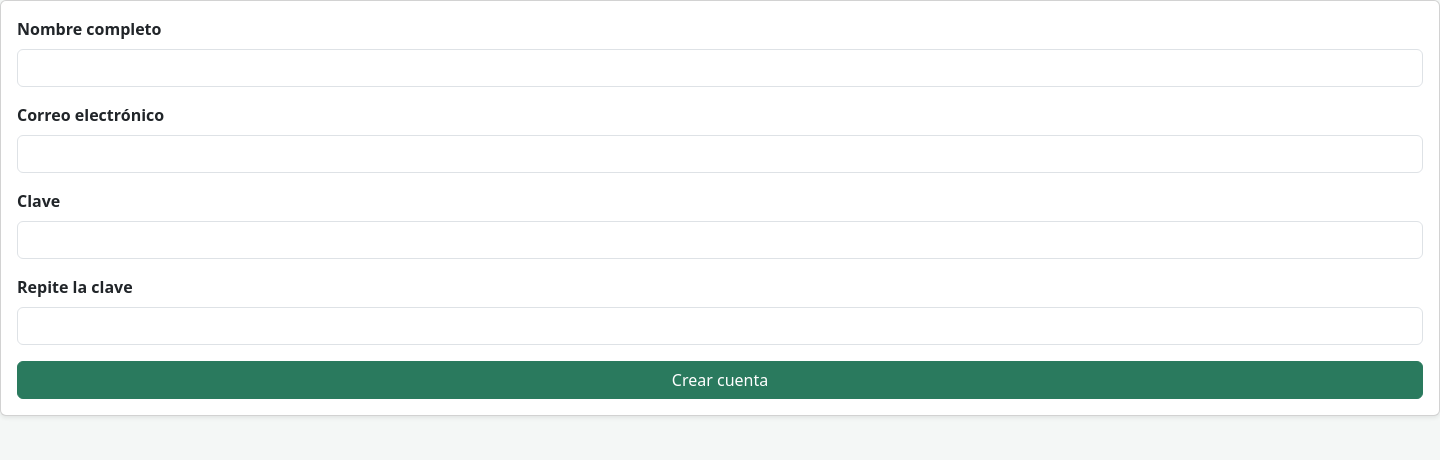
Test case: FormularioRegistro › rechaza el envío si las claves no coinciden
Type "Ana Soto" into the field labelled "Nombre completo".
click(720, 68); type("Ana Soto")  # box x1=17 y1=49 x2=1423 y2=87
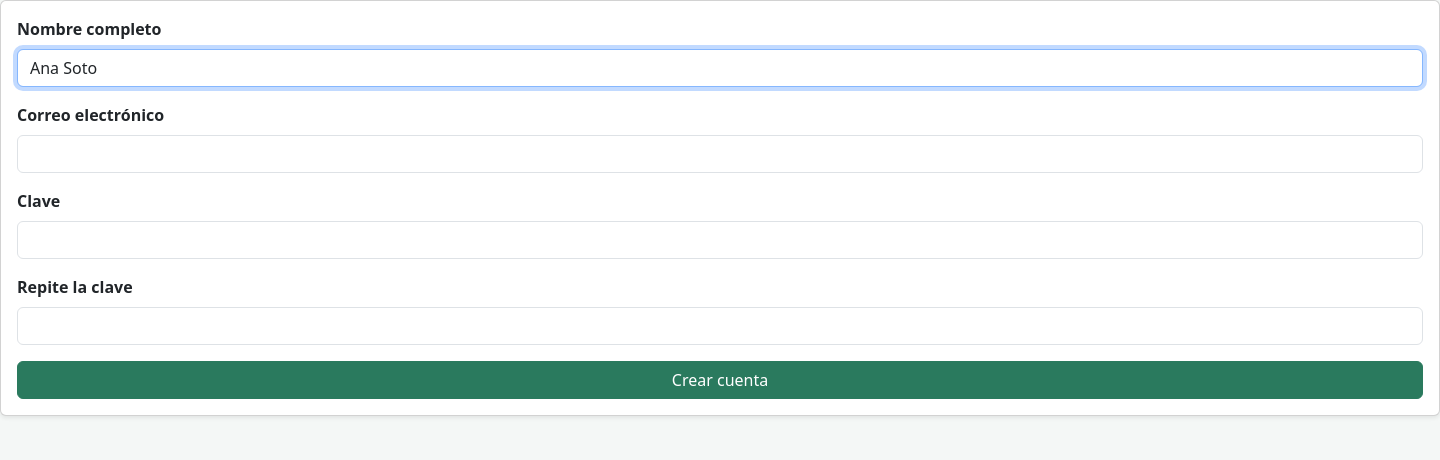
Type "ana@correo.cl" into the field labelled "Correo electrónico".
click(720, 154); type("ana@correo.cl")  # box x1=17 y1=135 x2=1423 y2=173
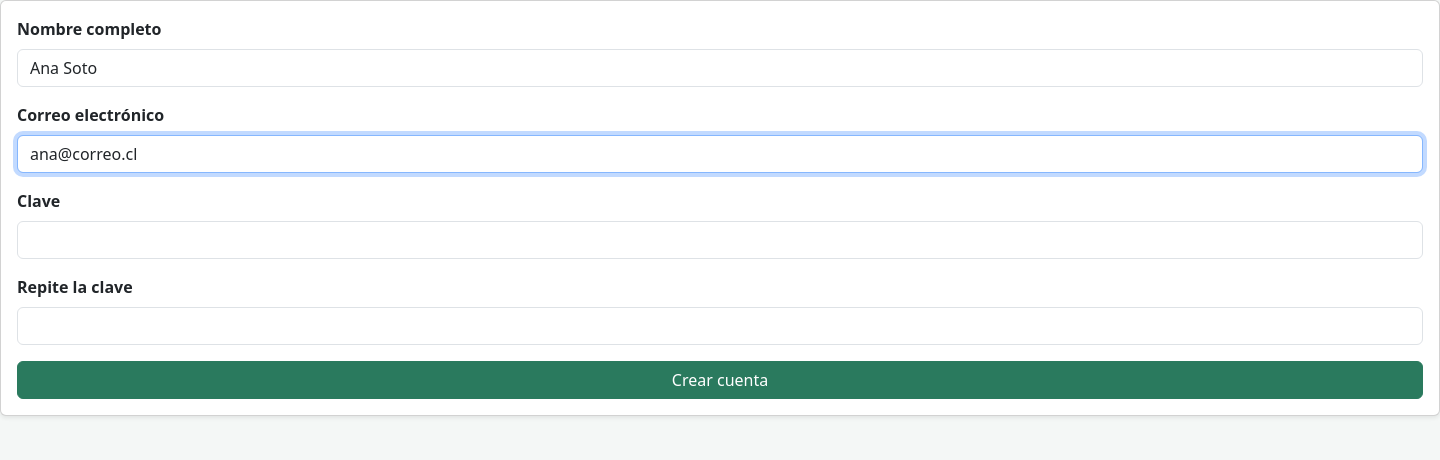
Type "secreta1" into the password field labelled "Clave".
click(720, 240); type("secreta1")  # box x1=17 y1=221 x2=1423 y2=259
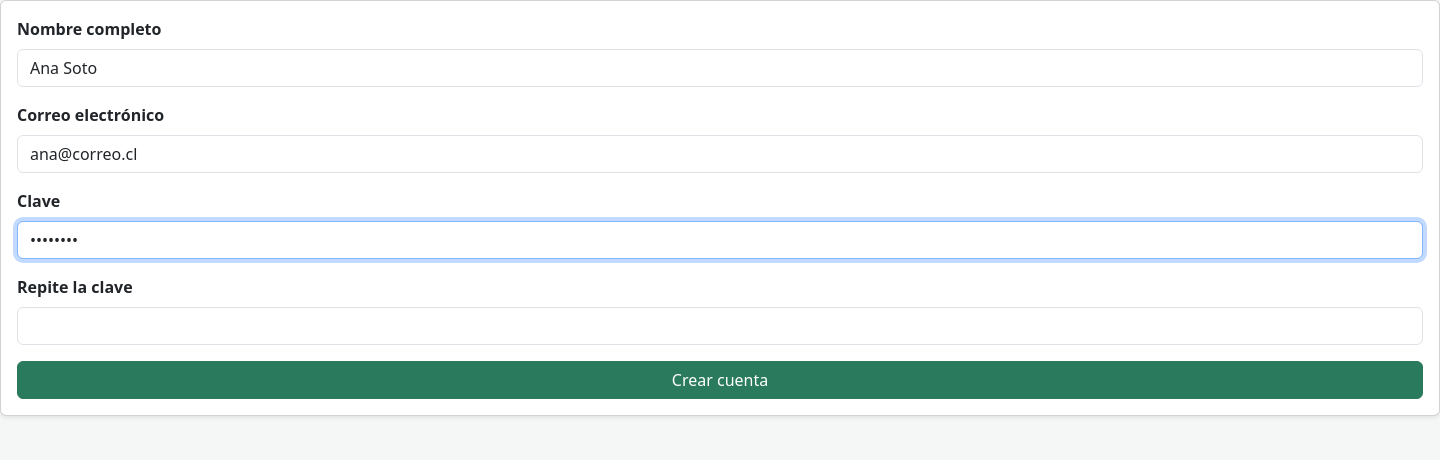
Type "secreta2" into the password field labelled "Repite la clave".
click(720, 326); type("secreta2")  # box x1=17 y1=307 x2=1423 y2=345
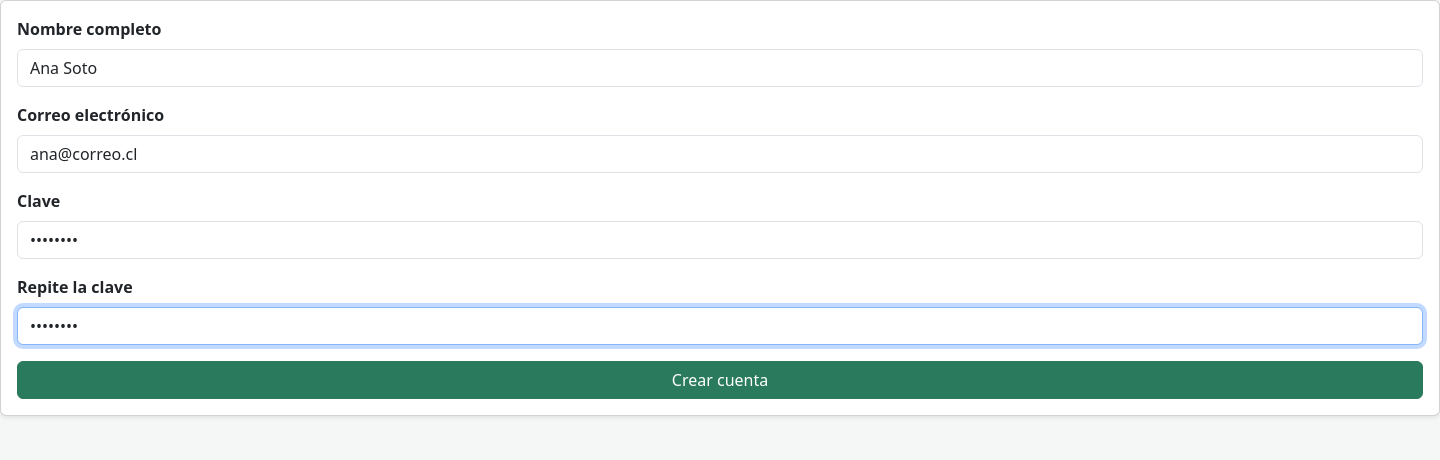
Click the button "Crear cuenta".
click(720, 380)  # box x1=17 y1=361 x2=1423 y2=399
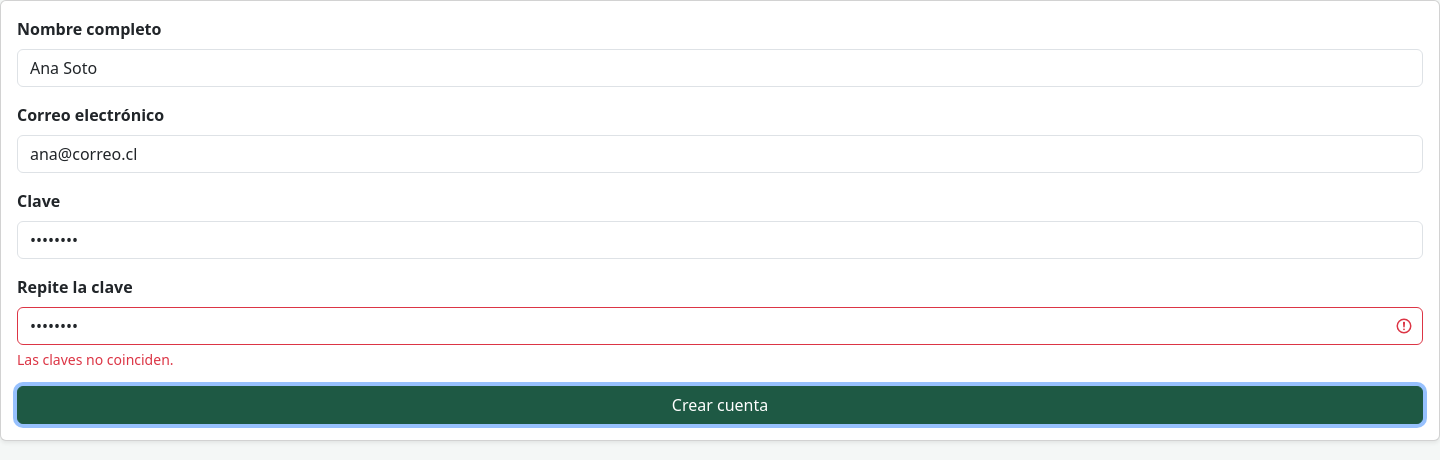
Expected: the message reads "Las claves no coinciden.", x1=17 y1=350 x2=174 y2=369
